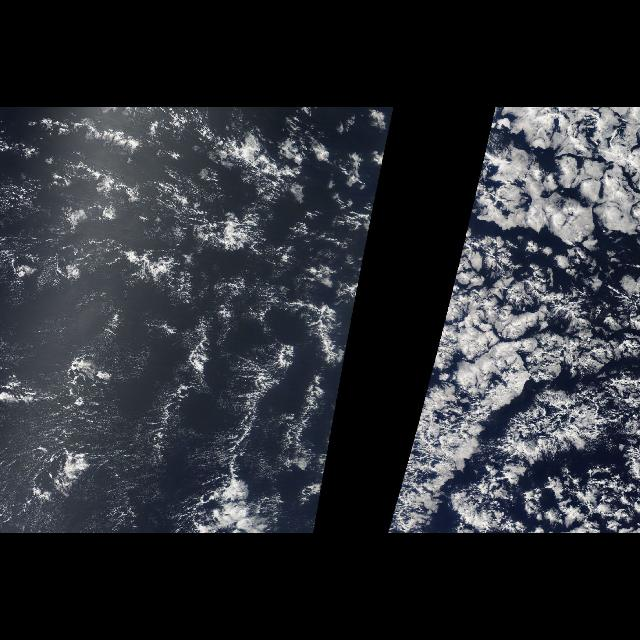Flower: (451, 111, 639, 411)
Sugar: (2, 396, 214, 526)
